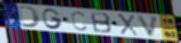B: (89, 11, 114, 34)
C: (70, 10, 88, 32)
D: (18, 5, 43, 29)
G: (41, 8, 64, 31)
V: (136, 15, 161, 38)
X: (116, 13, 140, 37)
